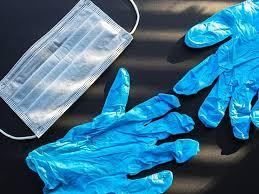Glove: (26, 69, 198, 193), (174, 0, 258, 138), (174, 35, 258, 138), (185, 0, 259, 48)
Mask: (0, 0, 138, 139)
